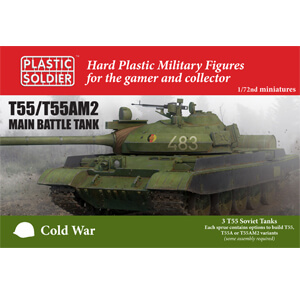Battle Tank: (1, 111, 298, 215)
